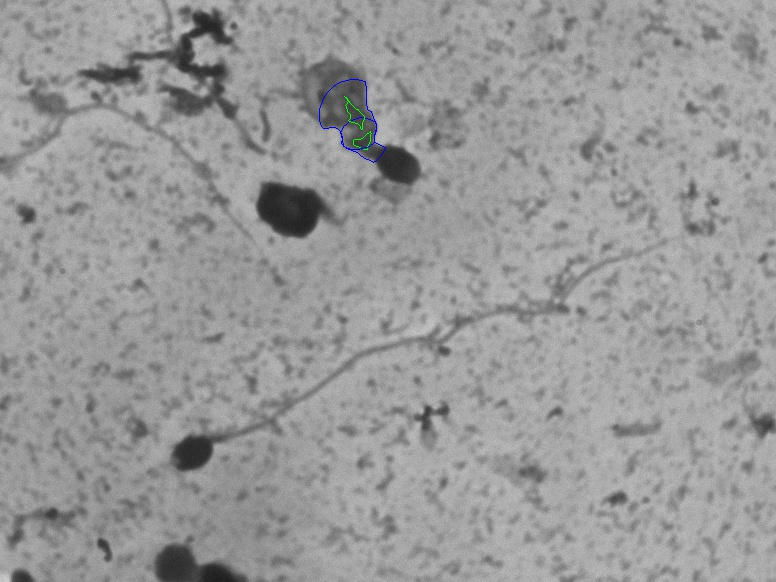Abnormal: (161, 217, 698, 486)
